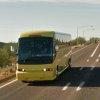Bus: (13, 27, 73, 87)
